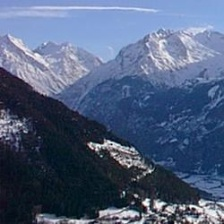neutral: (1, 10, 222, 224)
